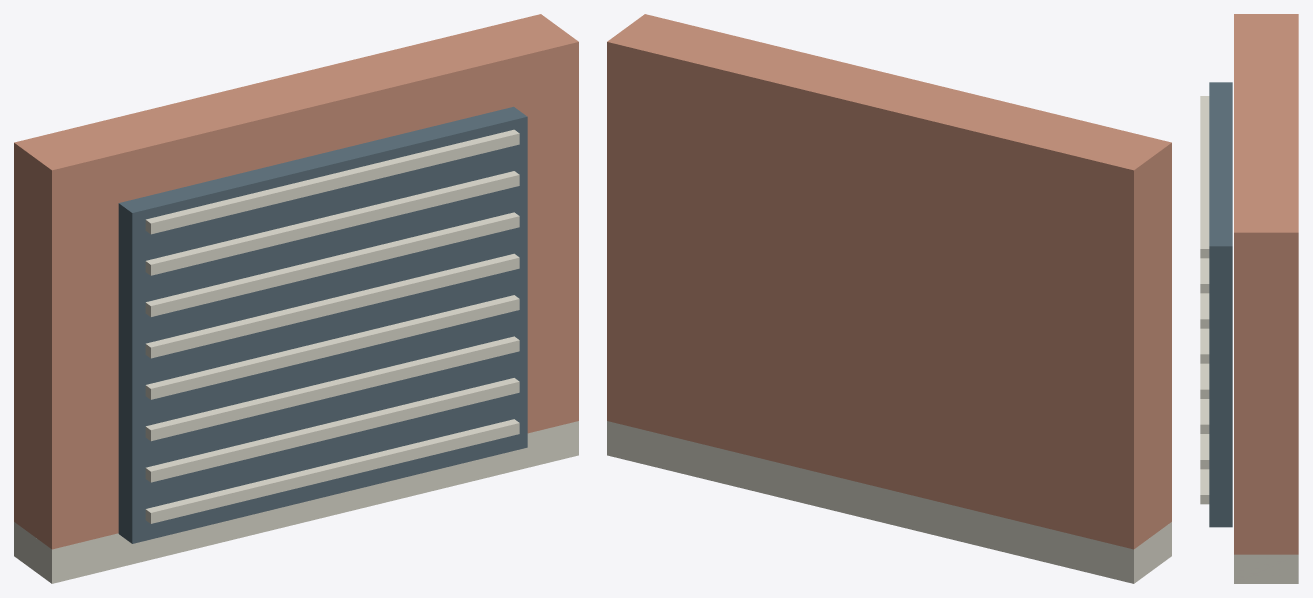
Rendered from voxel-city-districts-roller-shutter-bay-6aee5b37__24803.glb.
3 views of the same model, side by side, from view 1: azimuth 30°, elevation 25°; view 2: azimuth 150°, elevation 25°; view 3: azimuth 270°, elevation 25° (orthographic). The views are drawn at different scales.
Parts seen in each view (by area): view 1: roller-shutter-bay-brick, roller-shutter-bay-dark, roller-shutter-bay-concrete; view 2: roller-shutter-bay-brick, roller-shutter-bay-concrete; view 3: roller-shutter-bay-brick, roller-shutter-bay-dark, roller-shutter-bay-concrete.
Boxes of the visible parts, x1=… form: roller-shutter-bay-brick: x1=14, y1=14, x2=578, y2=549; roller-shutter-bay-dark: x1=118, y1=106, x2=527, y2=543; roller-shutter-bay-concrete: x1=14, y1=129, x2=578, y2=583; roller-shutter-bay-brick: x1=607, y1=14, x2=1171, y2=549; roller-shutter-bay-concrete: x1=607, y1=421, x2=1171, y2=583; roller-shutter-bay-brick: x1=1234, y1=14, x2=1298, y2=554; roller-shutter-bay-dark: x1=1209, y1=82, x2=1232, y2=527; roller-shutter-bay-concrete: x1=1200, y1=96, x2=1298, y2=583.
Bounding box in the file's own units: 4 × 3 × 0.7599.
